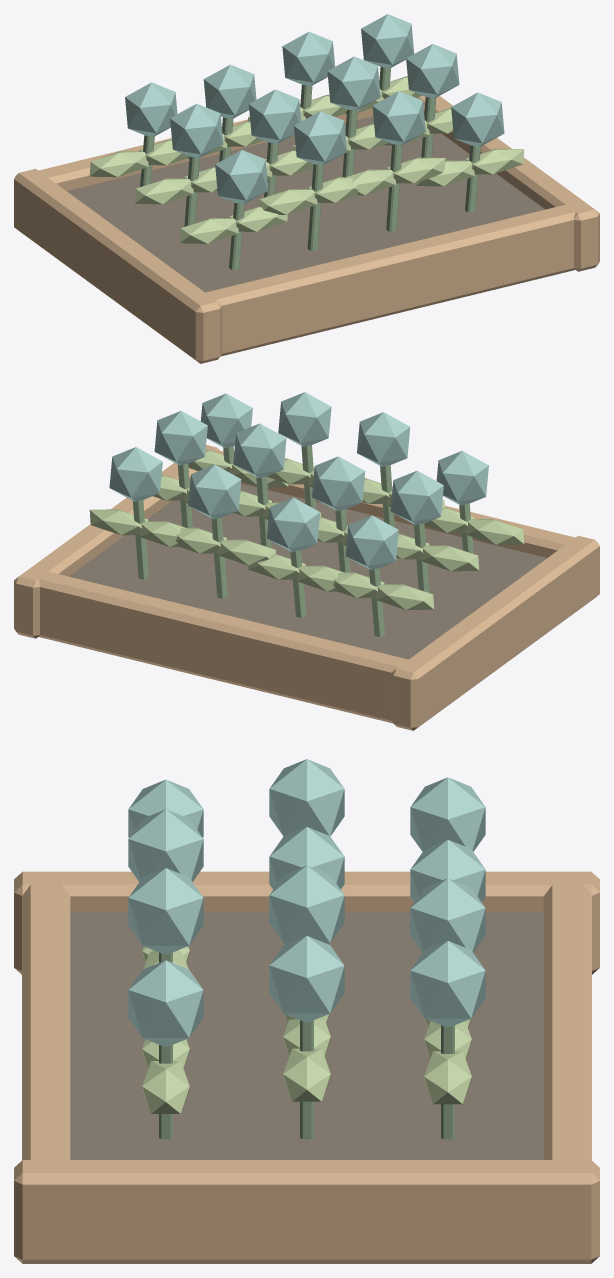
The model's file is herb_plot.fbx.
3 renders of one model, top to bottom at view 1: azimuth 30°, elevation 25°; view 2: azimuth 150°, elevation 25°; view 3: azimuth 270°, elevation 25°, orthographic. The views are drawn at different scales.
Parts seen in each view (by area): view 1: herb_plot_mesh; view 2: herb_plot_mesh; view 3: herb_plot_mesh.
Boxes of the visible parts, x1,y1,x2,y2 form: herb_plot_mesh: (14,14,599,363); herb_plot_mesh: (14,392,599,730); herb_plot_mesh: (14,759,599,1263).
Size of the model in its own units: 1.82 by 0.7955 by 1.46.
